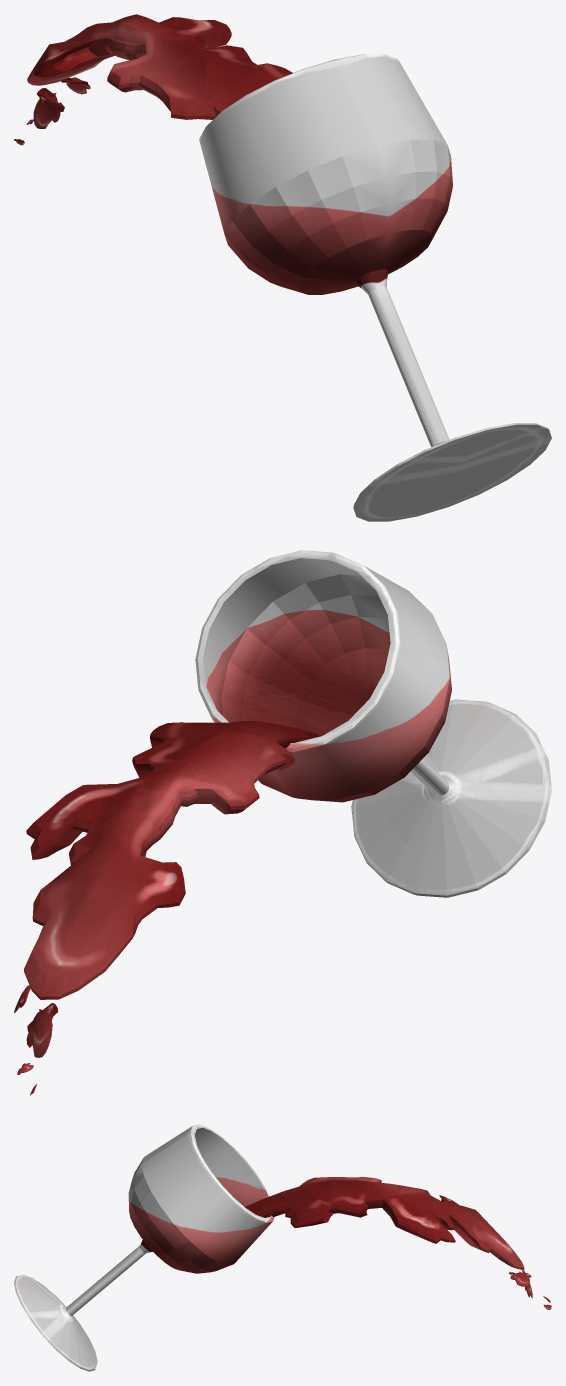
The model's file is wineglass_export.fbx.
The picture shows the model from 3 angles, top to bottom: view 1: azimuth 30°, elevation 25°; view 2: azimuth 150°, elevation 25°; view 3: azimuth 270°, elevation 25°; orthographic projection. The views are drawn at different scales.
Parts seen in each view (by area): view 1: pCylinder2; view 2: pCylinder2; view 3: pCylinder2.
Boxes of the visible parts, bbox=[...] form: pCylinder2: bbox=[14, 14, 551, 521]; pCylinder2: bbox=[14, 550, 551, 1095]; pCylinder2: bbox=[14, 1124, 551, 1371].
Size of the model in its own units: 2.04 by 3.67 by 7.73.
